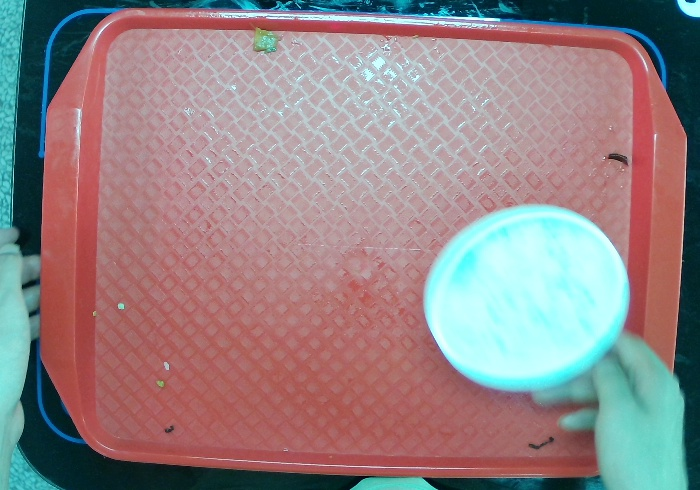YKMZ-Fan_Wan: (416, 198, 632, 397)
